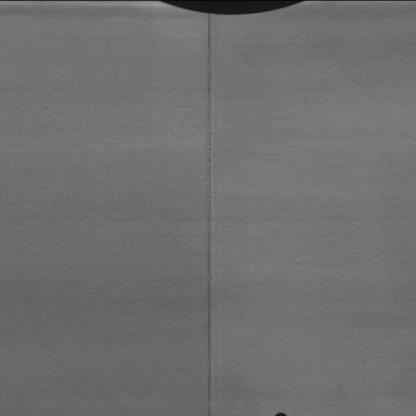crescent_gap: (152, 0, 308, 21)
punching_hole: (271, 409, 289, 416)
welding_line: (197, 10, 224, 416)
